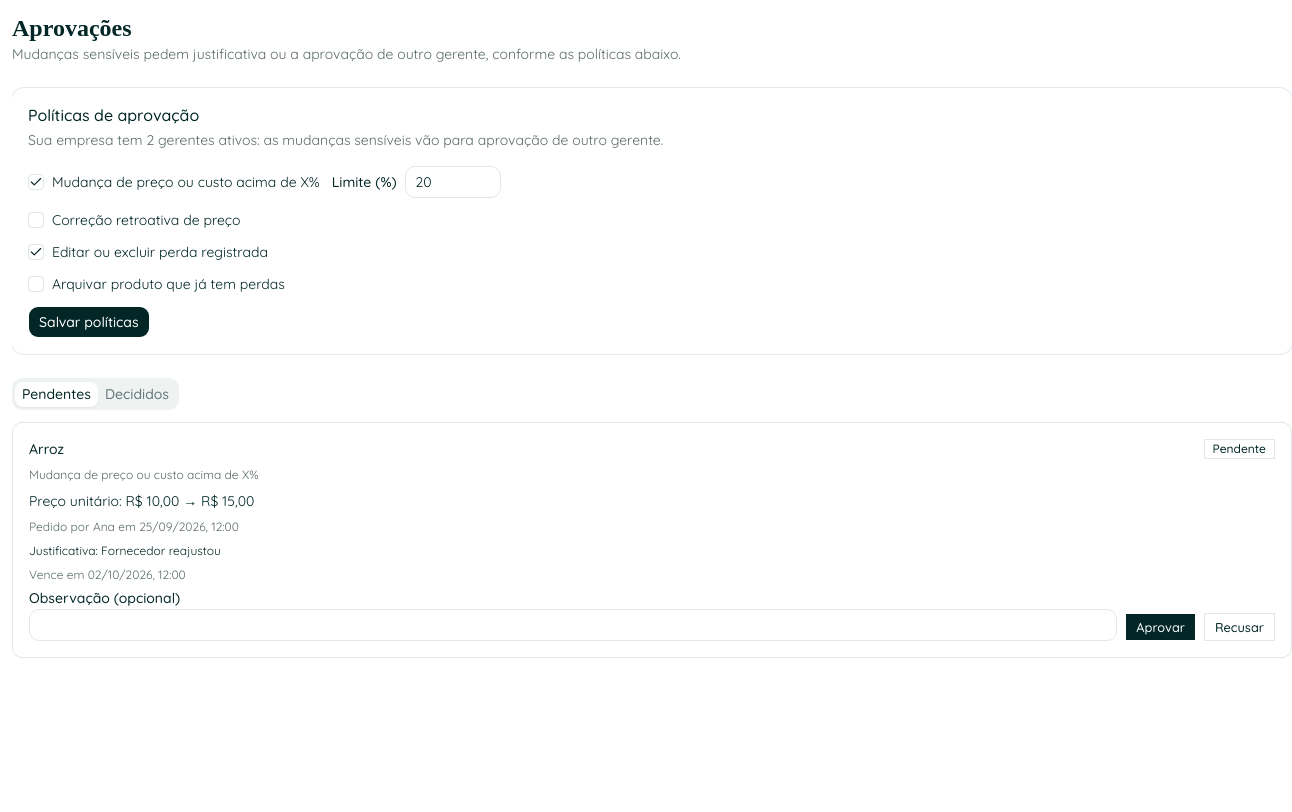
Test: AprovacoesClient › registro mudou desde o pedido: mostra a nota do pedido expirado
Click the button "Aprovar": (1161, 627) [1125,613,1196,641]
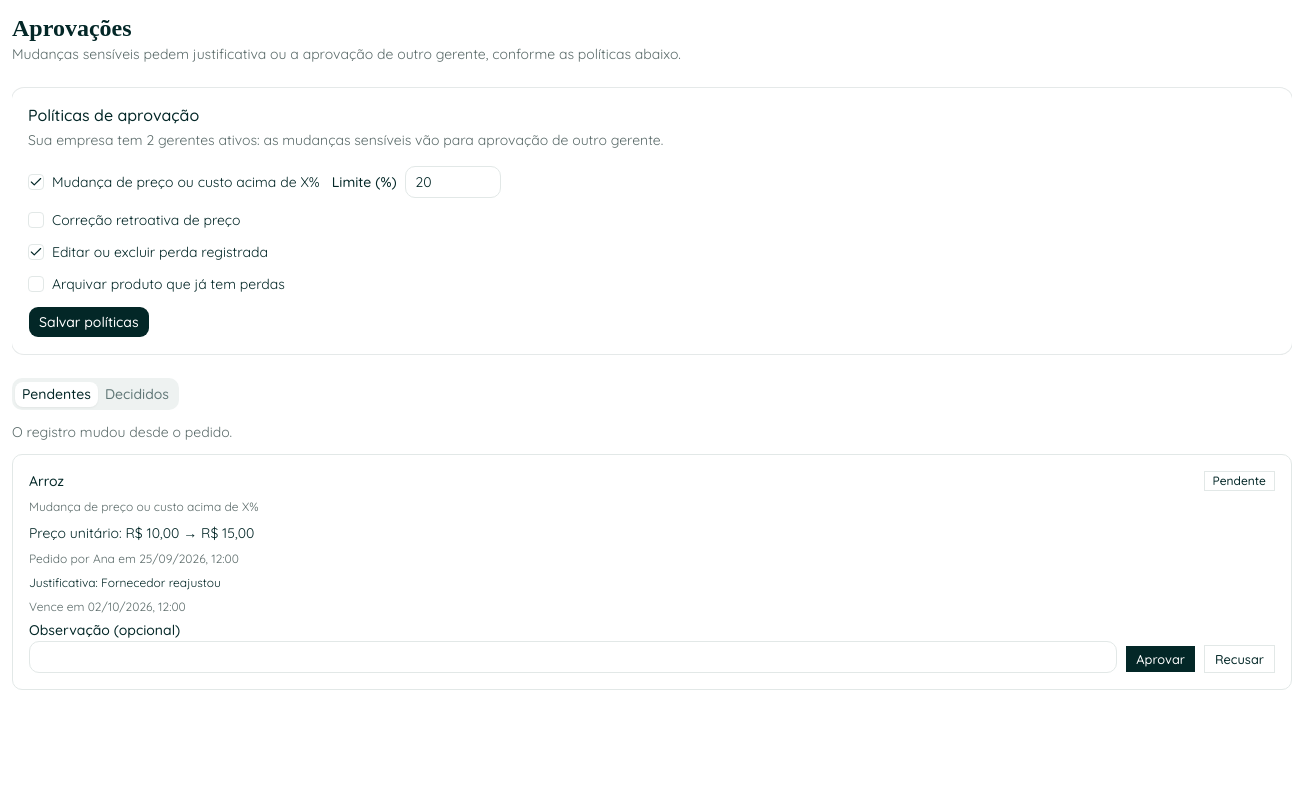
Expected: the text "O registro mudou desde o pedido." is shown, [12,423,232,441]
